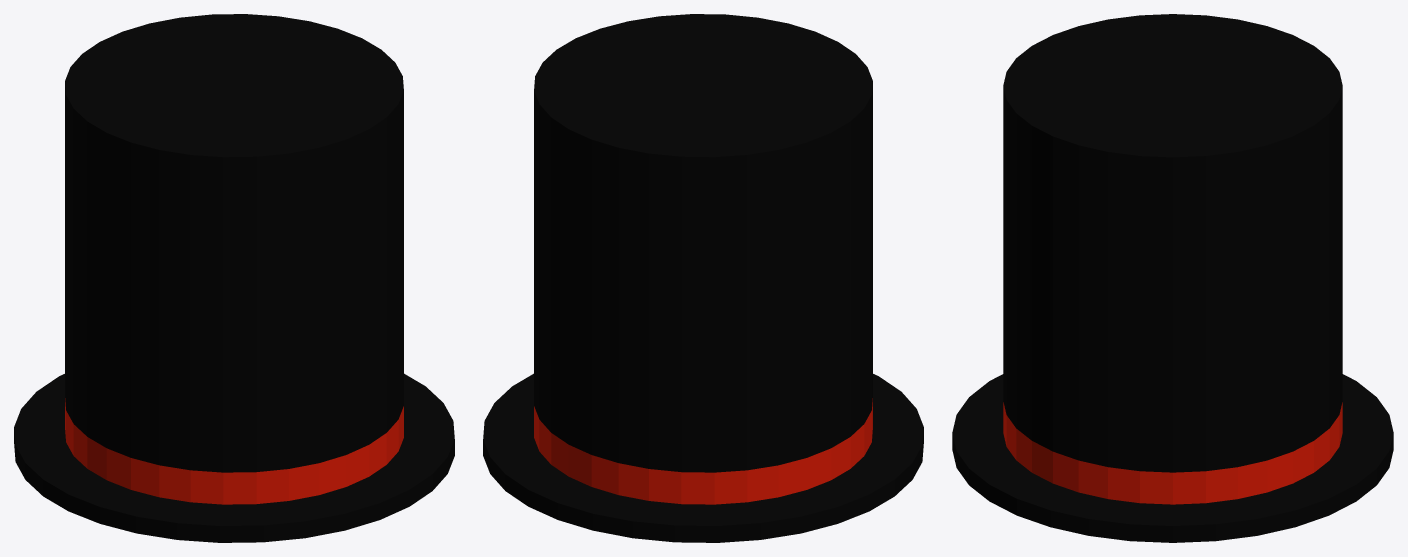
The model's file is top hat.fbx.
The picture shows the model from 3 angles, left to right: view 1: azimuth 30°, elevation 25°; view 2: azimuth 150°, elevation 25°; view 3: azimuth 270°, elevation 25°; orthographic projection.
Parts seen in each view (by area): view 1: Circle; view 2: Circle; view 3: Circle.
Boxes of the visible parts, x1,y1,x2,y2 form: Circle: [14, 14, 454, 542]; Circle: [483, 14, 923, 542]; Circle: [952, 14, 1393, 542].
Bounding box in the file's own units: 355 × 323 × 355.
